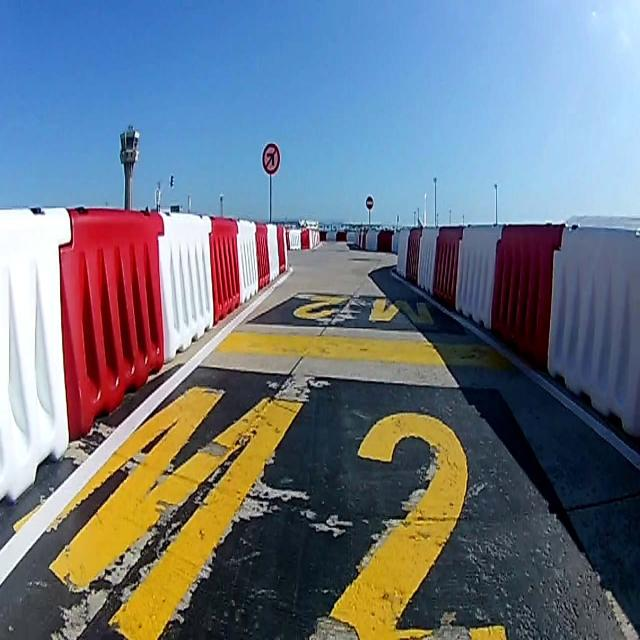girisyok: (365, 192, 375, 212)
soladonulmez: (262, 143, 280, 173)
